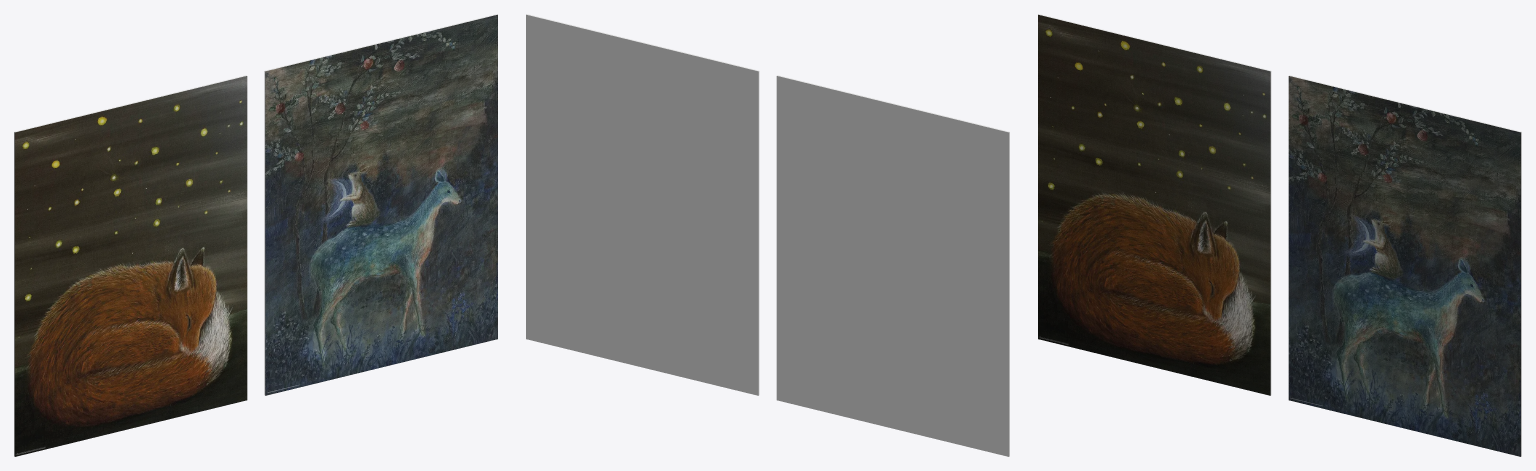
Rendered from bild_plakat_30601972.glb.
3 views of the same model, side by side, from view 1: azimuth 30°, elevation 25°; view 2: azimuth 150°, elevation 25°; view 3: azimuth 330°, elevation 25° (orthographic).
Parts seen in each view (by area): view 1: bild_plakat_30601972; view 2: bild_plakat_30601972; view 3: bild_plakat_30601972.
Part boxes in pixels (left/top/right/bottom): bild_plakat_30601972: left=14, top=14, right=497, bottom=456; bild_plakat_30601972: left=526, top=14, right=1009, bottom=456; bild_plakat_30601972: left=1038, top=14, right=1521, bottom=456.
Bounding box in the file's own units: 0.6231 × 0.4 × 0.002.
Materials: 3 (2 with a texture image).
